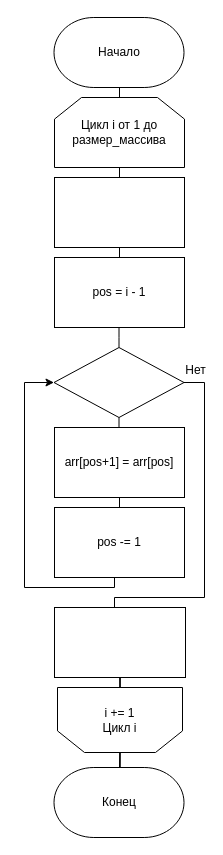
This 223x855 diagram has some shape labels left out. The centre of each missing label's shape, as x and y in pixels:
arr[pos+1] = newElem: [120,642]
newElem = arr[i]: [119,212]
pos >= 0 && arr[pos] > newElem: [118,382]
